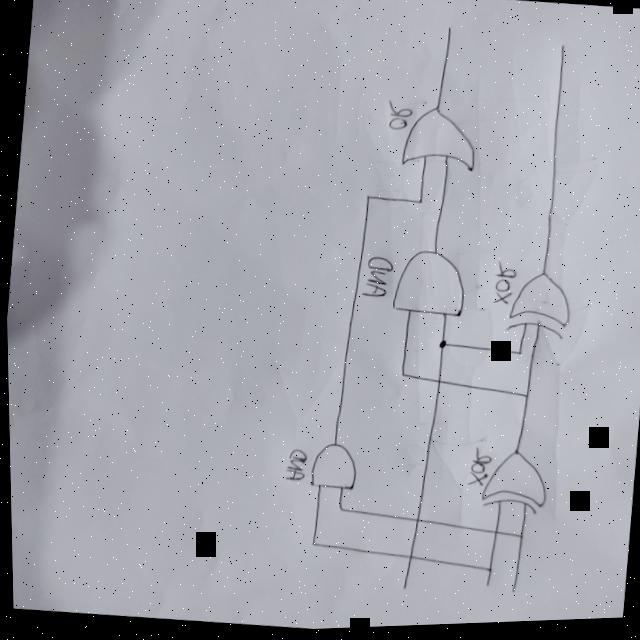crossover: (402, 555, 414, 565), (408, 519, 420, 528), (432, 380, 442, 390), (489, 532, 498, 542)
junction: (360, 194, 375, 207), (411, 200, 426, 211), (434, 342, 447, 353), (518, 395, 530, 405), (396, 373, 405, 383), (513, 537, 523, 546), (307, 542, 316, 551), (512, 352, 521, 361), (482, 570, 491, 578), (334, 508, 344, 515)
terminal: (440, 26, 455, 42), (555, 46, 567, 56), (480, 583, 489, 593), (396, 587, 405, 596), (505, 591, 514, 600)
text: (359, 256, 393, 304), (278, 446, 309, 488), (488, 265, 517, 309), (463, 449, 492, 492), (381, 102, 413, 137)
